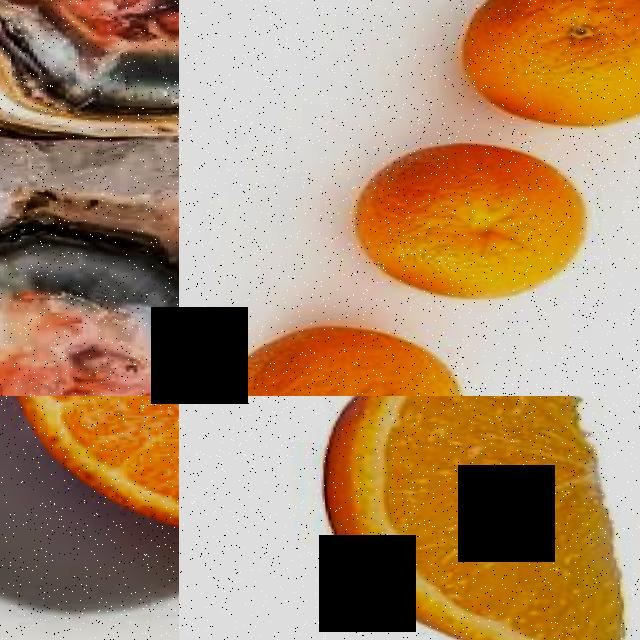orange: (302, 396, 640, 640), (339, 125, 602, 311), (0, 396, 179, 558), (195, 304, 484, 396), (459, 0, 640, 129)
oysters: (0, 230, 179, 396), (0, 0, 179, 154)
